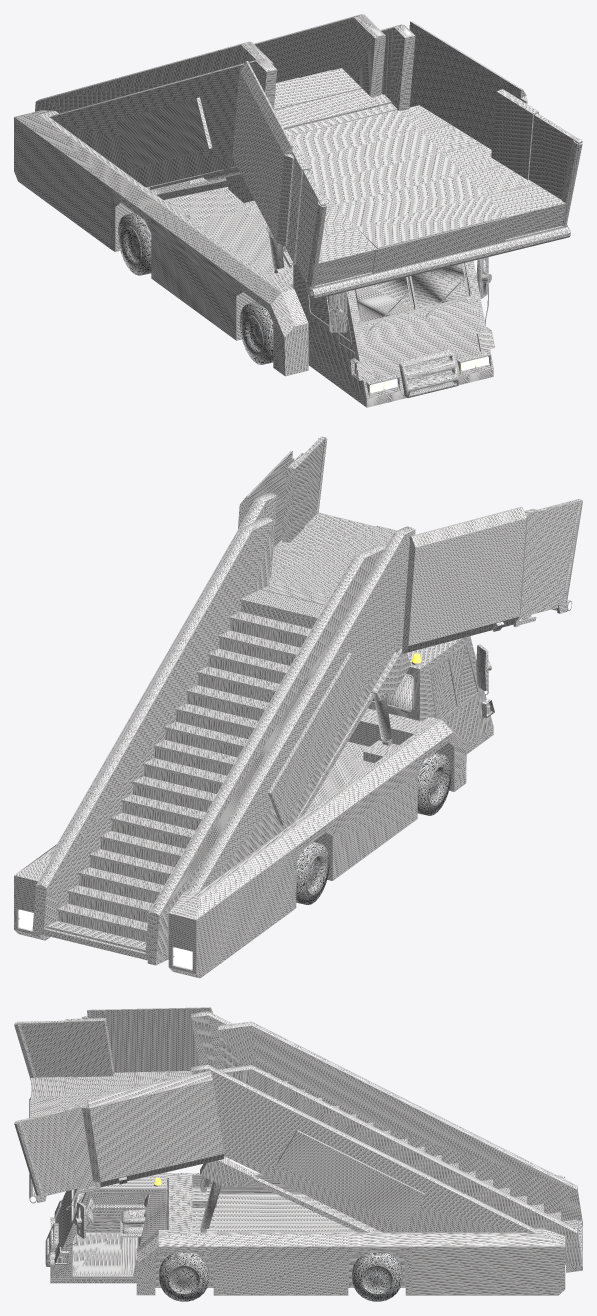
The model's file is ASO_Boarding_Stairs_LOD02.gltf.
3 renders of one model, top to bottom at view 1: azimuth 30°, elevation 25°; view 2: azimuth 150°, elevation 25°; view 3: azimuth 270°, elevation 25°, orthographic. The views are drawn at different scales.
Visible parts, largest first — view 1: Ramp_End, ASO_Boarding_Stairs, Ramp_Start, W1_R, W2; view 2: Ramp_Start, Ramp_End, ASO_Boarding_Stairs, W1_R, W2; view 3: Ramp_End, ASO_Boarding_Stairs, Ramp_Start, W2, W1_L, Piston2.
Part boxes in pixels (x1=…): Ramp_End: x1=50, y1=21, x2=582, y2=299; ASO_Boarding_Stairs: x1=14, y1=110, x2=494, y2=407; Ramp_Start: x1=35, y1=14, x2=391, y2=202; W1_R: x1=239, y1=301, x2=273, y2=364; W2: x1=118, y1=212, x2=151, y2=275; Ramp_Start: x1=32, y1=517, x2=410, y2=965; Ramp_End: x1=50, y1=436, x2=582, y2=892; ASO_Boarding_Stairs: x1=14, y1=636, x2=494, y2=978; W1_R: x1=417, y1=752, x2=451, y2=815; W2: x1=296, y1=842, x2=329, y2=904; Ramp_End: x1=14, y1=1007, x2=536, y2=1232; ASO_Boarding_Stairs: x1=45, y1=1172, x2=565, y2=1295; Ramp_Start: x1=200, y1=1021, x2=582, y2=1272; W2: x1=352, y1=1253, x2=402, y2=1301; W1_L: x1=159, y1=1253, x2=209, y2=1301; Piston2: x1=200, y1=1178, x2=221, y2=1228.
Bounding box in the file's own units: 3.76 × 3.94 × 8.9.
